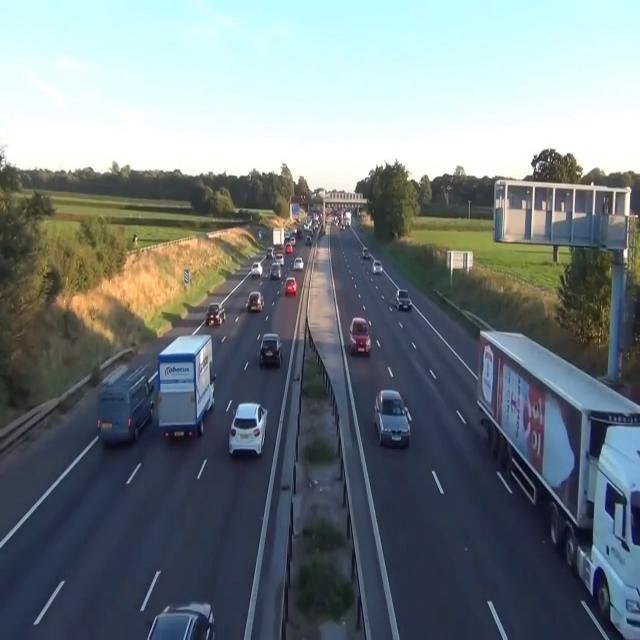belum terisi: (478, 321, 640, 640), (154, 333, 219, 440), (96, 351, 154, 453), (227, 388, 276, 470), (369, 375, 414, 462), (141, 591, 220, 640), (344, 304, 377, 360), (260, 326, 286, 370), (202, 295, 228, 332), (392, 279, 414, 320), (244, 284, 265, 316), (283, 268, 300, 299)
